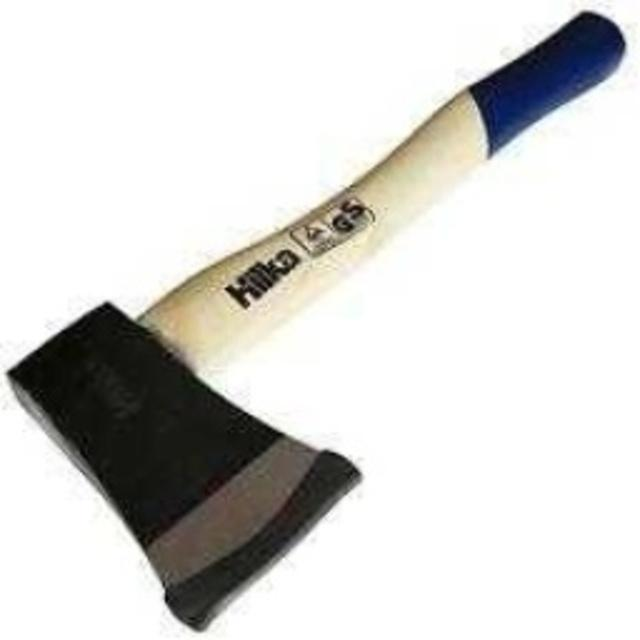ax: (6, 6, 631, 634)
